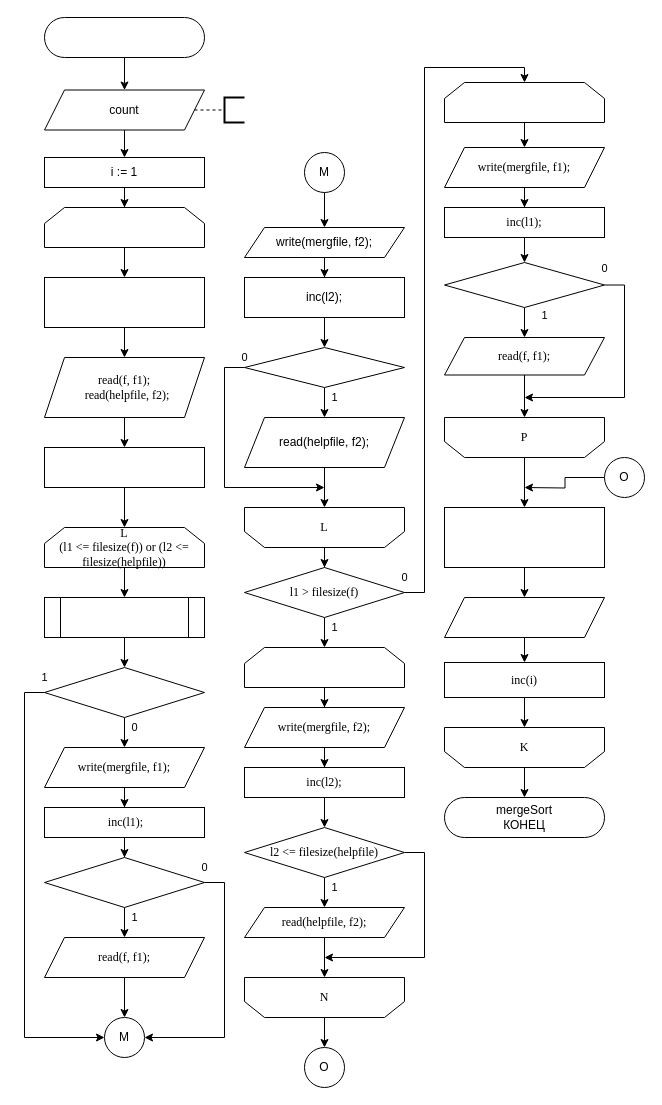
This 662x1105 diagram has some shape labels left out. Here are the shapes that lost their labels. From the top down, the centre of each, then its label:
At (124,37): "mergeSort НАЧАЛО".
At (234,109): "count - параметр по значению".
At (524,102): "P l1 > filesize(f)".
At (124,227): "K i > count-1".
At (124,302): "Открытие вспомогательных файлов для чтения".
At (524,285): "l1 <= filesize(f)".
At (324,367): "l2<=filesize(helpfile)".
At (124,467): "l1 := 1; l2 := 1;".
At (524,537): "Закрытие вспомогательных файлов".
At (124,617): "cm := comparator(f1, f2)".
At (524,617): "Удаление вспомогательных файлов".
At (324,667): "N l2 > filesize(helpfile)".
At (124,692): "cm".
At (124,882): "l1<=filesize(f)".
